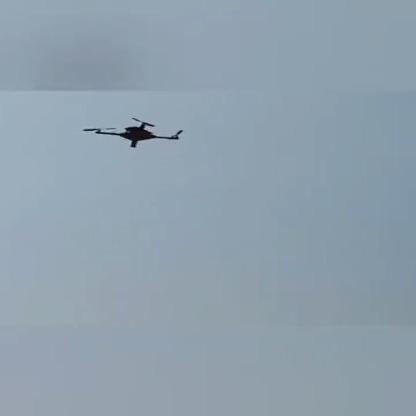drone: (80, 116, 190, 153)
